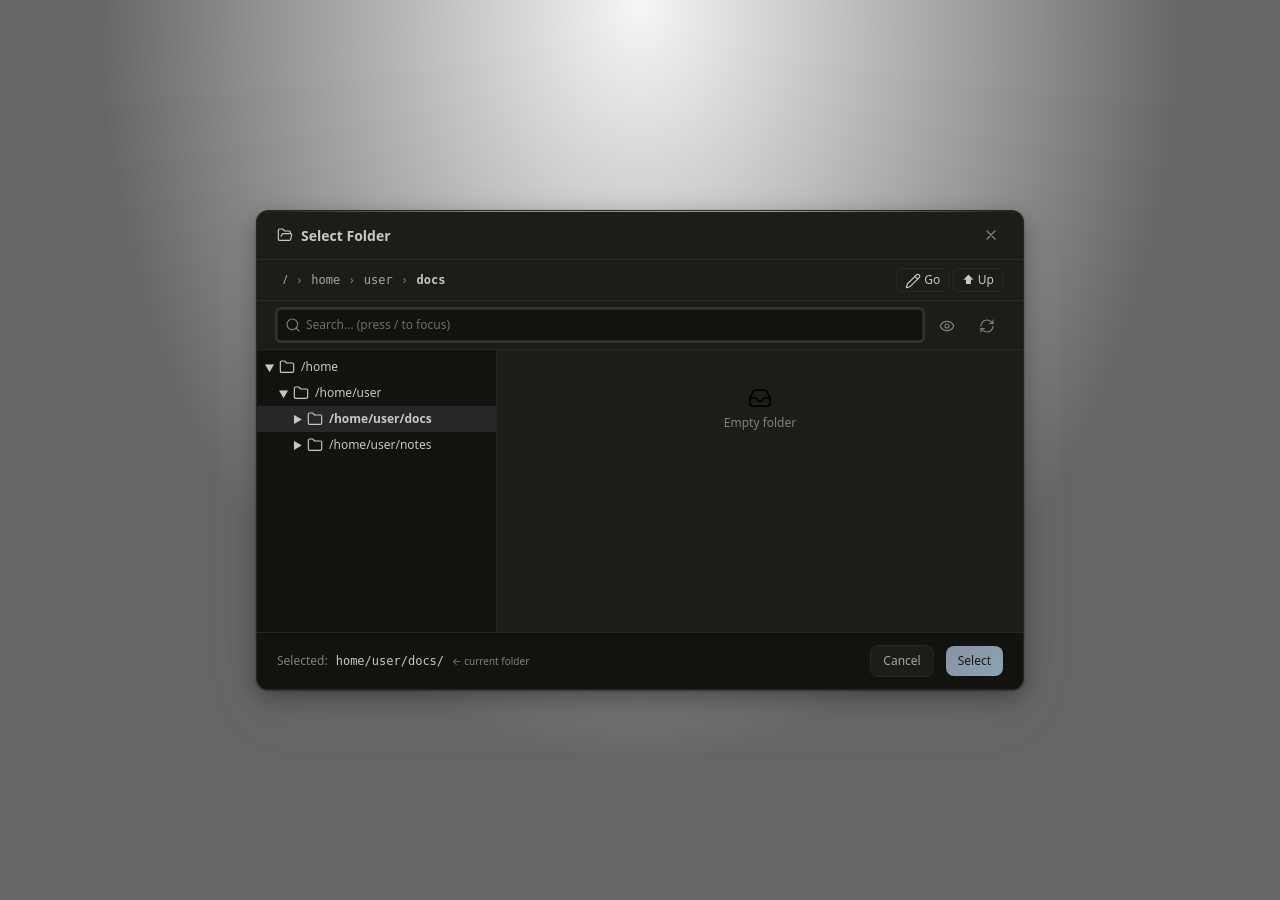
Scenario: FilePickerDialog — address bar (type a path) › a bare ".." segment pops the current path one level up
The width and height of the screenshot is (1280, 900).
Step 1. Click the button with test id "file-picker-path-edit" → (923, 280), box [896, 268, 949, 292]
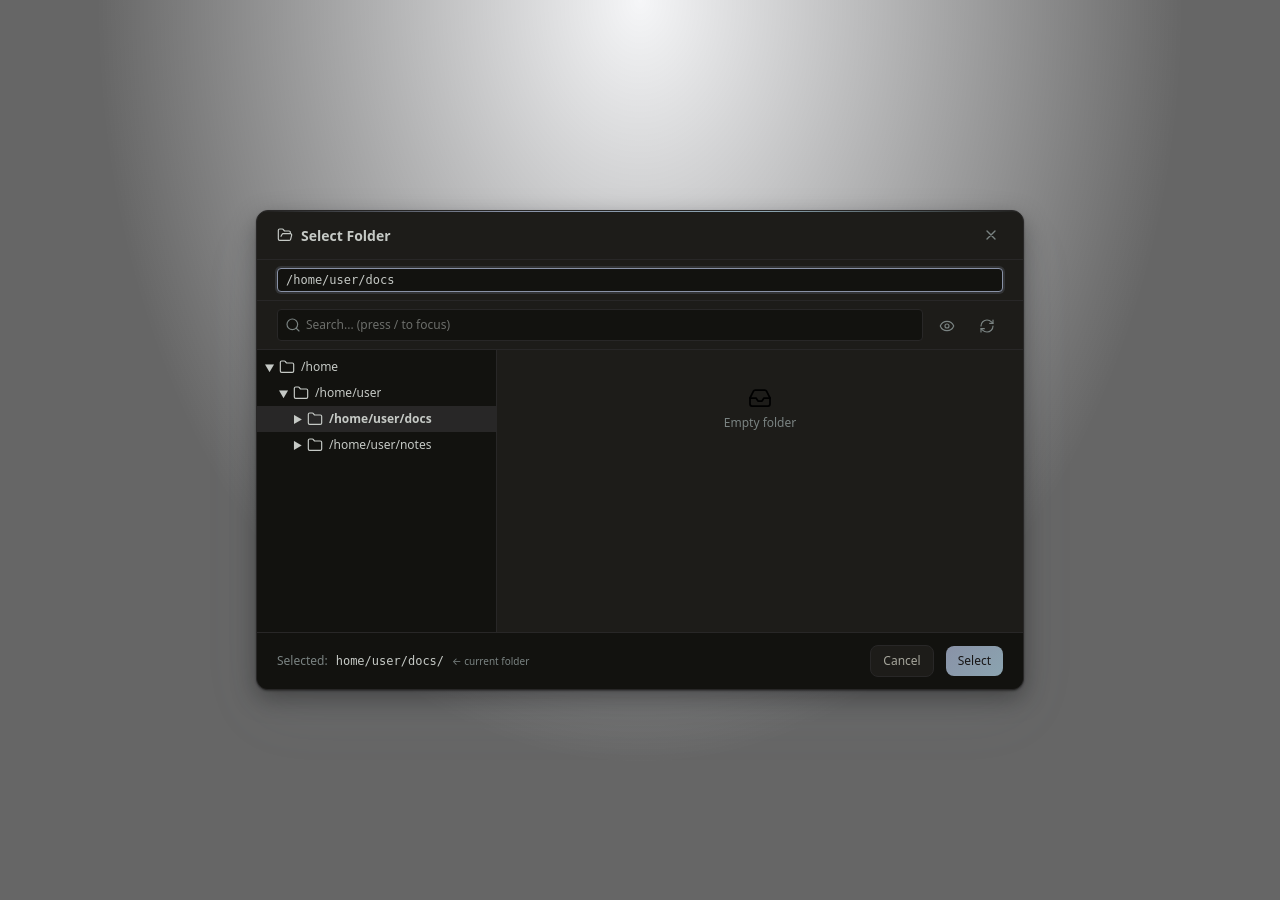
Step 2. Replace the text in the field with test id "file-picker-path-input" with ".." → (640, 280), box [277, 268, 1003, 292]
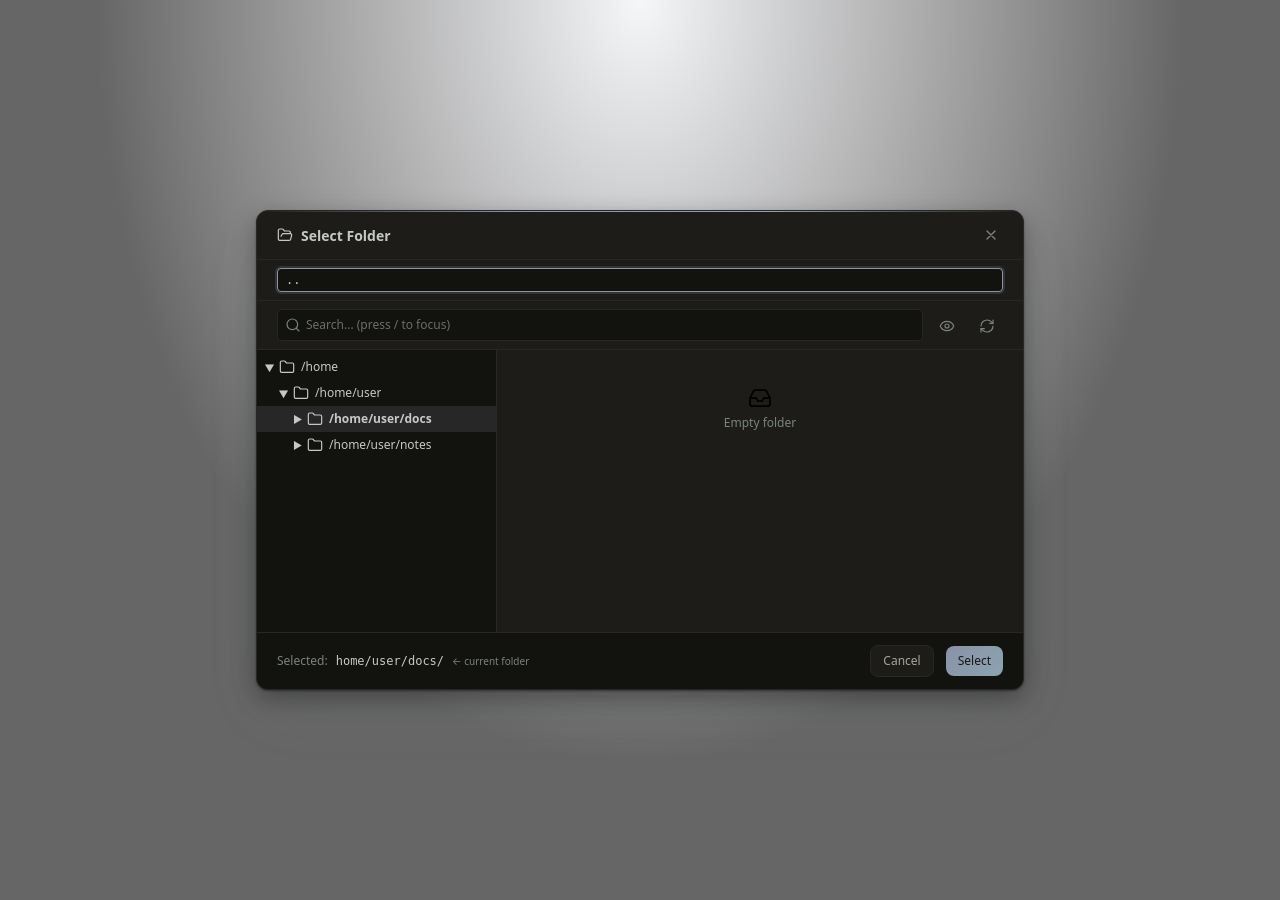
Step 3. Press Enter in the field with test id "file-picker-path-input", box [277, 268, 1003, 292]
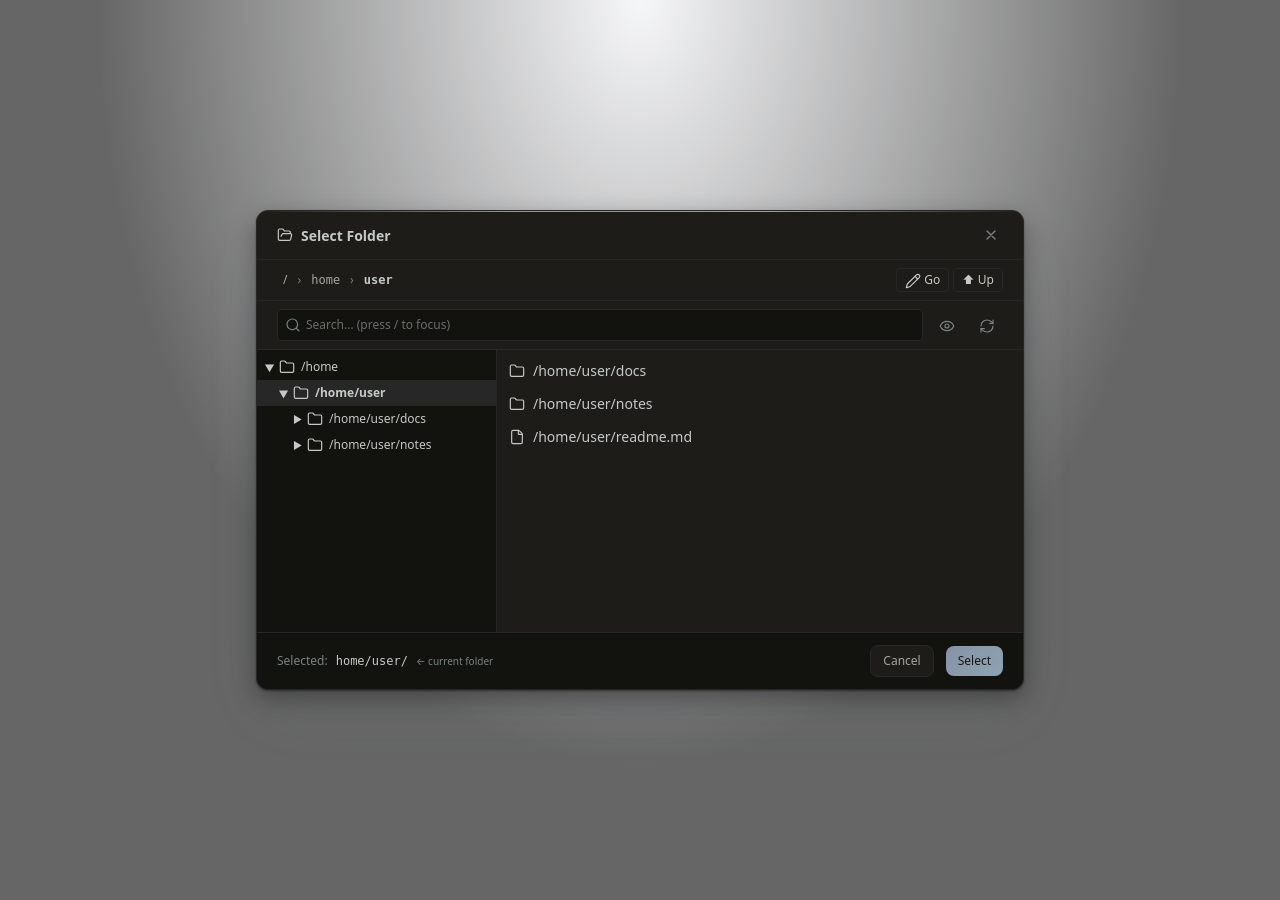
Expected: the button with test id "file-picker-item-/home/user/notes" is shown, [497, 387, 1023, 420]
